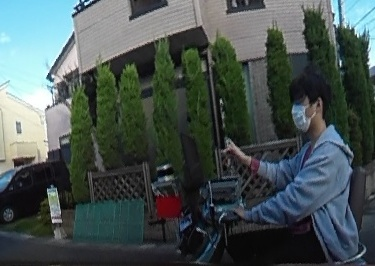person: (242, 83, 345, 266)
